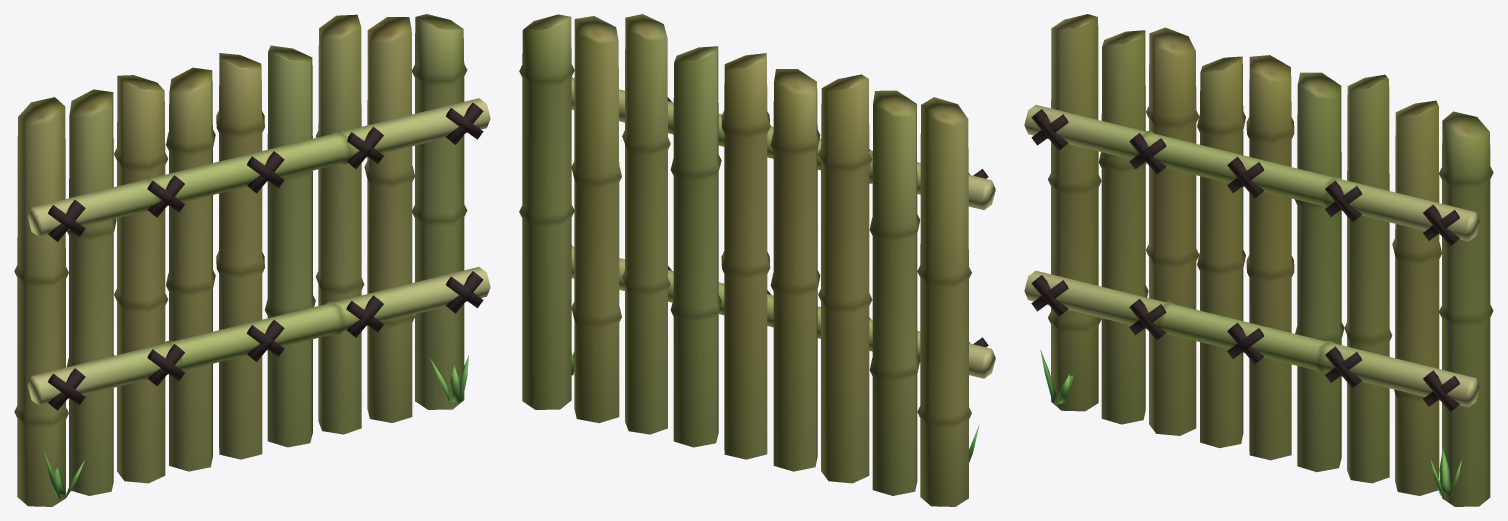
The model's file is fence-1-v1.glb.
3 views of the same model, side by side, from view 1: azimuth 30°, elevation 25°; view 2: azimuth 150°, elevation 25°; view 3: azimuth 330°, elevation 25° (orthographic).
Visible parts, largest first — view 1: fence; view 2: fence; view 3: fence.
Boxes of the visible parts, x1=… form: fence: x1=14, y1=14, x2=490, y2=506; fence: x1=519, y1=14, x2=995, y2=506; fence: x1=1024, y1=14, x2=1493, y2=506.
Bounding box in the file's own units: 1 × 0.8629 × 0.1595.
